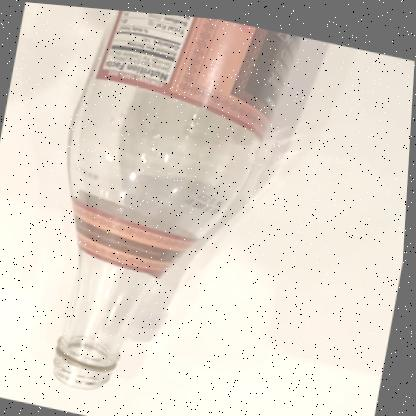Glass: (56, 8, 288, 387)
